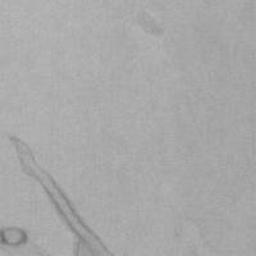Water spot: (6, 133, 118, 256), (0, 224, 59, 256), (132, 8, 168, 38)
